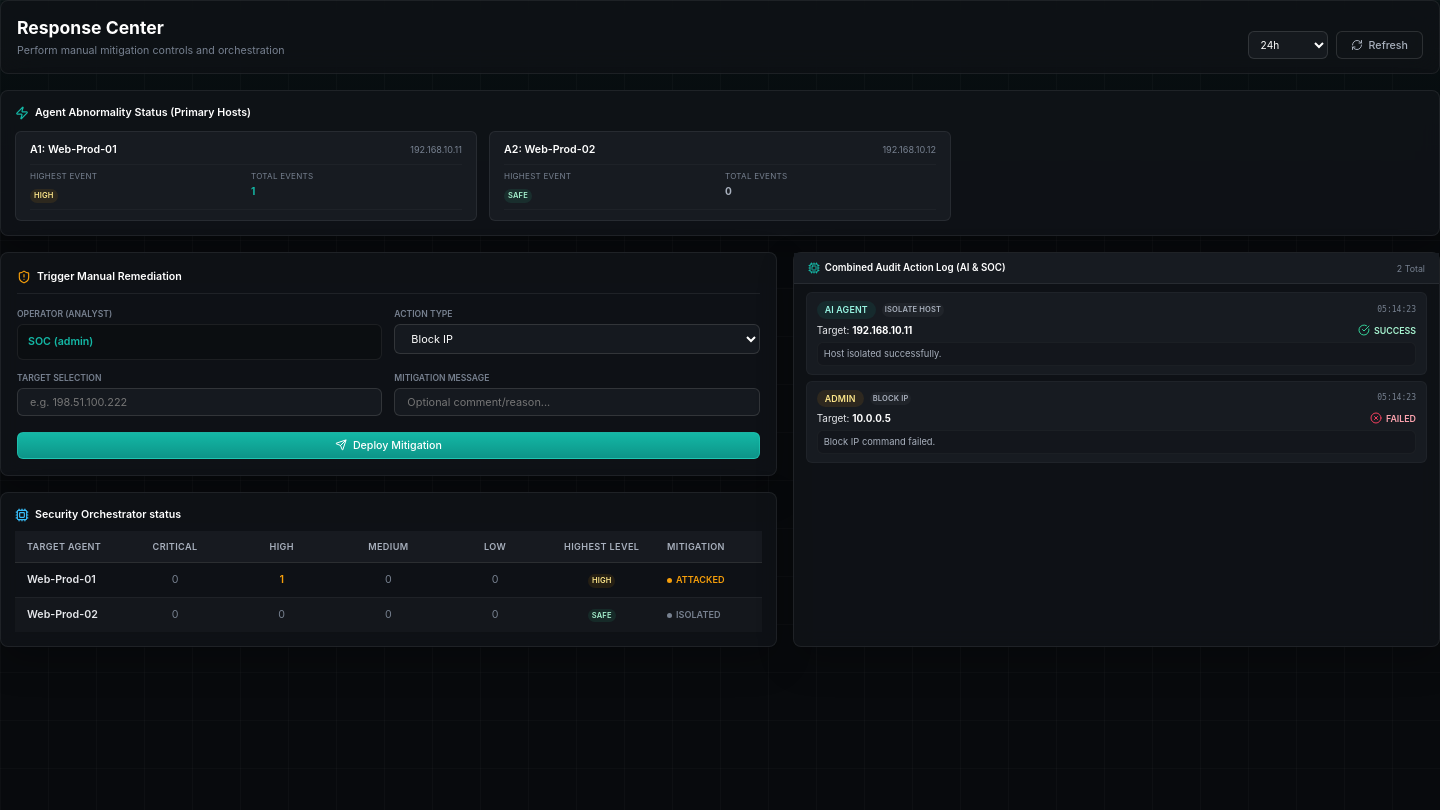
it: ResponseCenter Component › remediation form submission success flow
Type "192.168.1.5" into the field with placeholder "e.g. 198.51.100.222" at coordinates (200, 402), box [17,388,382,416]
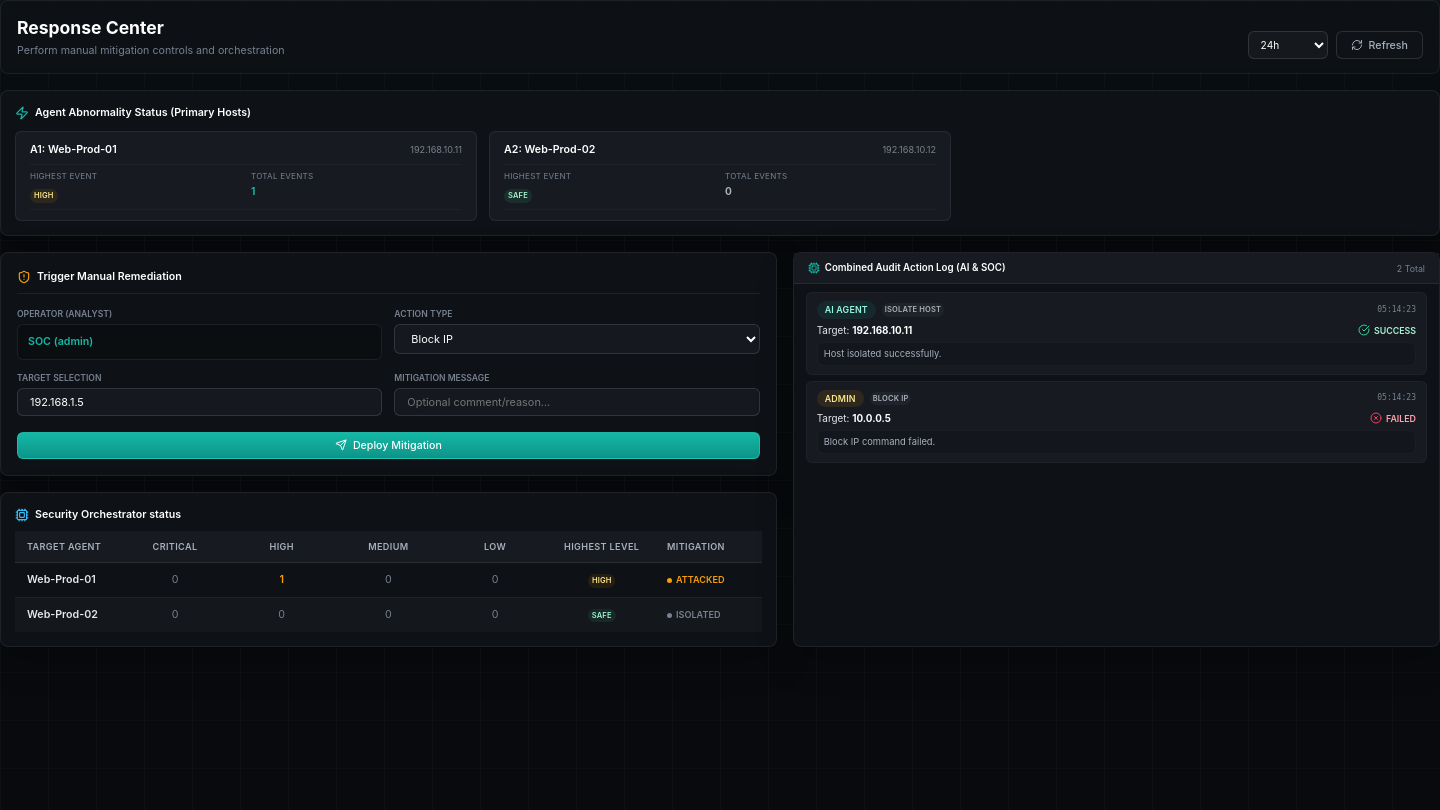
Click the button "Deploy Mitigation" at coordinates (388, 445), box [17,432,760,459]
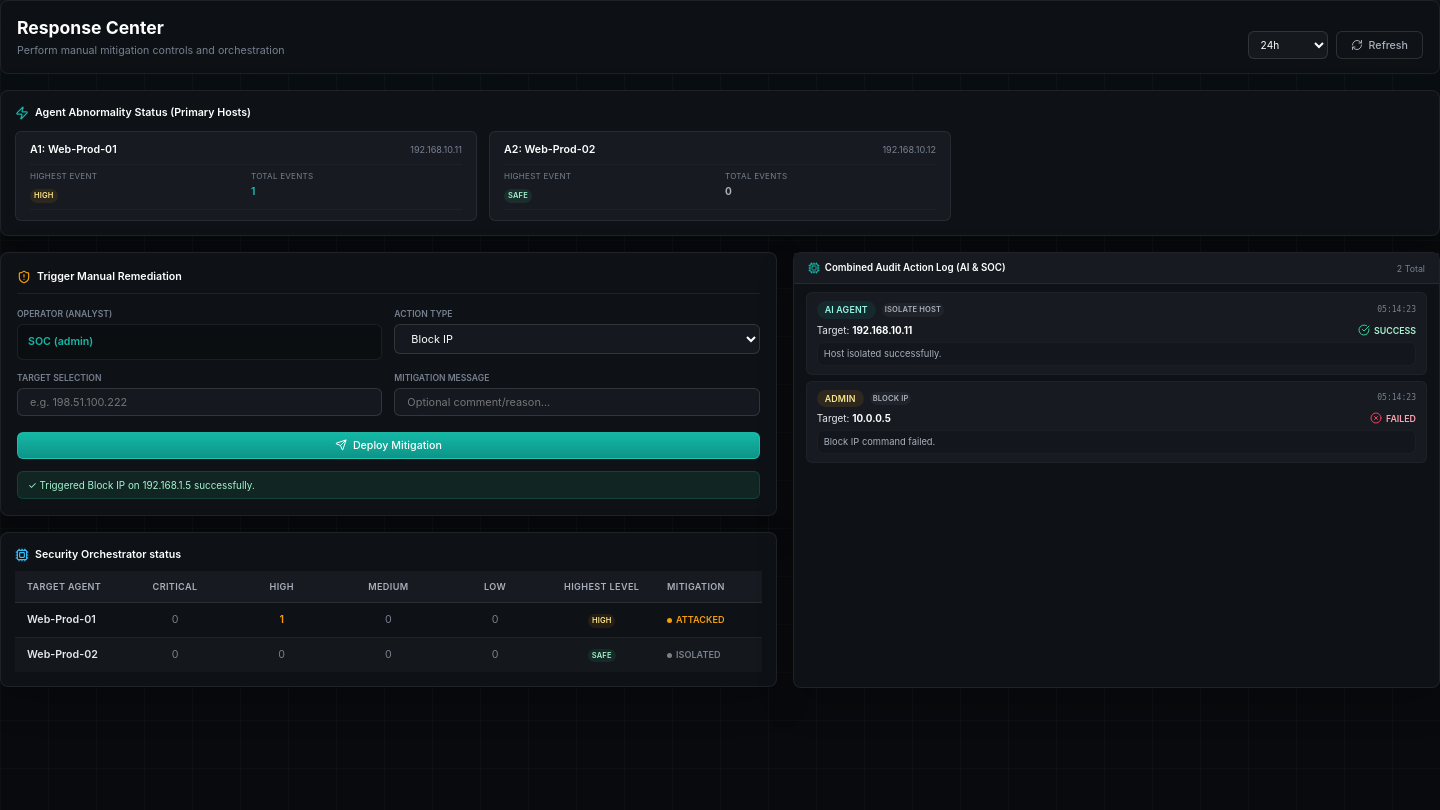
Check: the text "✓ Triggered Block IP on 192.168.1.5 successfully." is shown, box [17,471,760,499]
